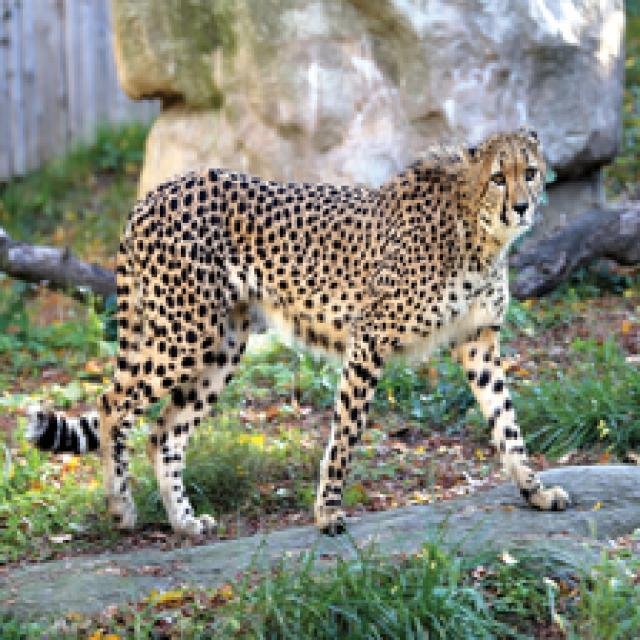cheetah: (43, 125, 601, 515)
